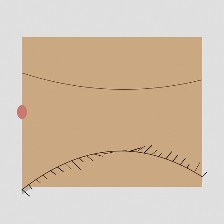pinguecula_lesion: (150, 93, 199, 133)
